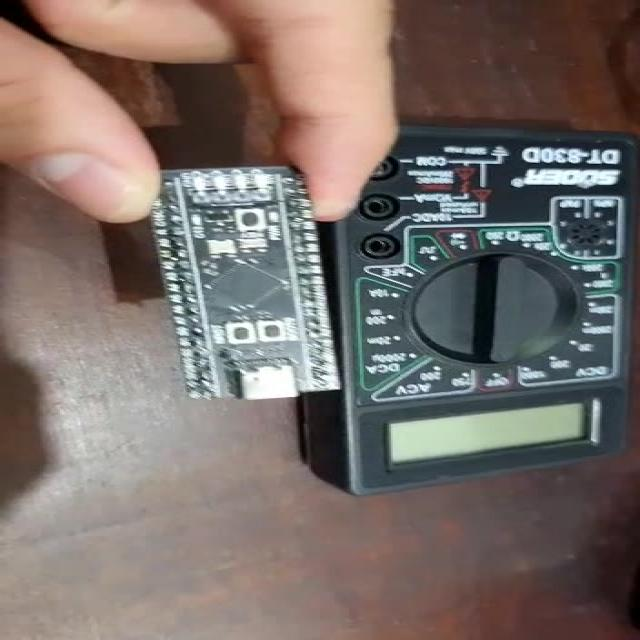multimeter: (331, 122, 640, 486)
stm32: (165, 174, 346, 406)
